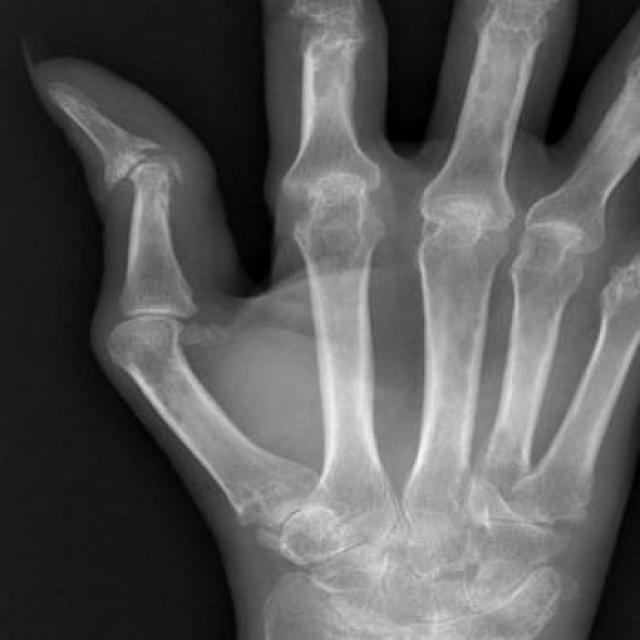fracture: (101, 139, 190, 196)
